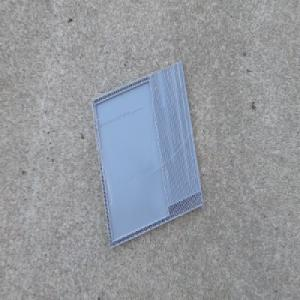PlasticPart: (89, 57, 206, 252)
